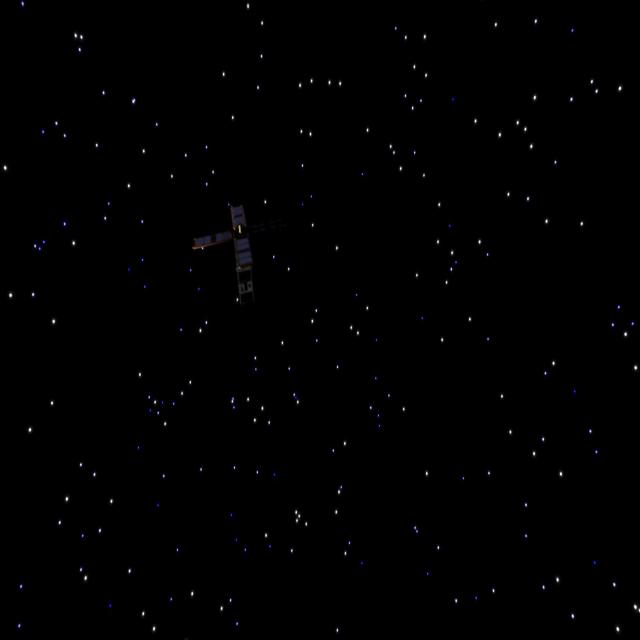satellite: (189, 200, 280, 302)
